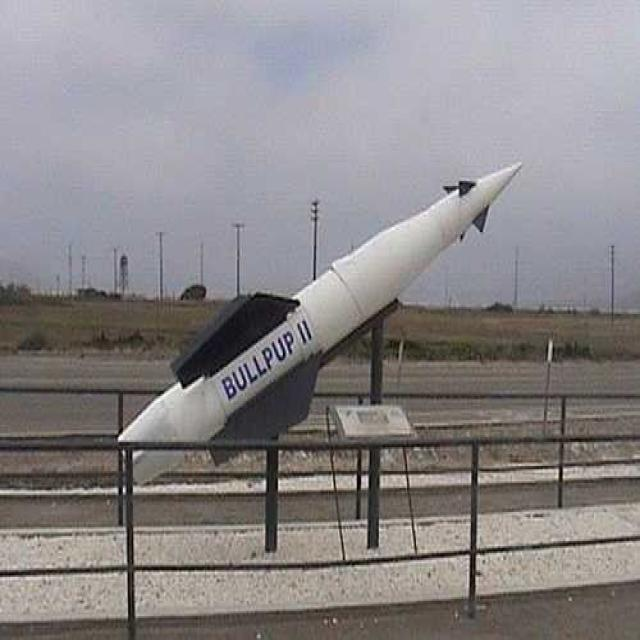missile: (114, 150, 527, 498)
